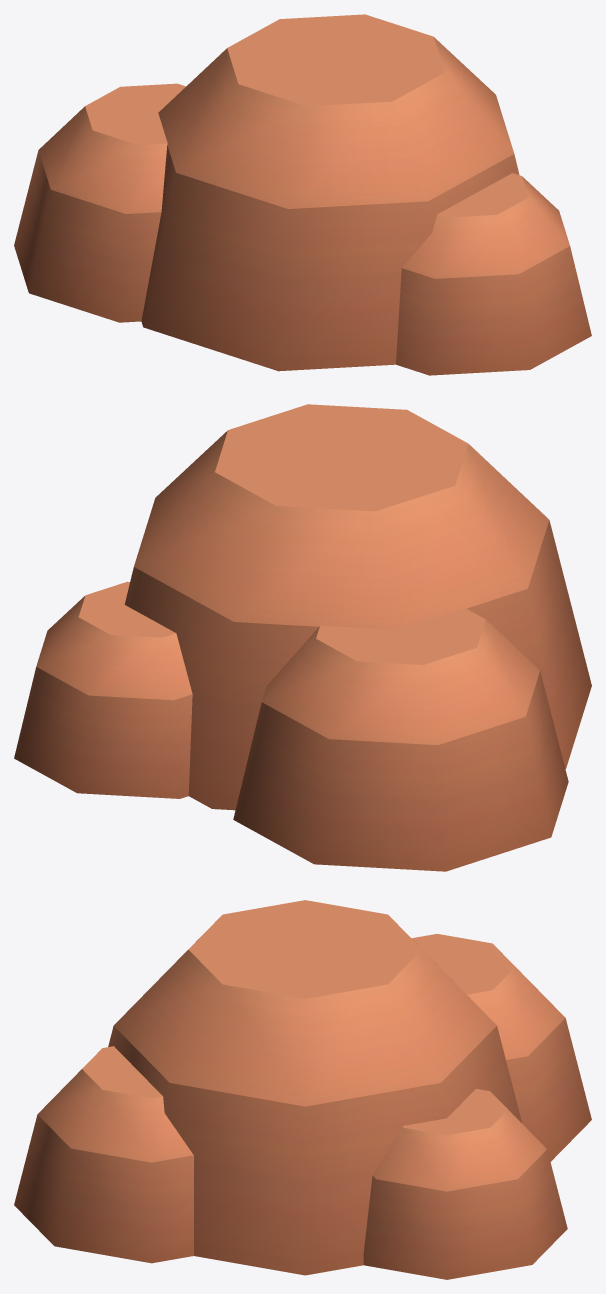
File: cargo-pile-a-transformed-transformed.glb
The picture shows the model from 3 angles, top to bottom: view 1: azimuth 30°, elevation 25°; view 2: azimuth 150°, elevation 25°; view 3: azimuth 270°, elevation 25°; orthographic projection. The views are drawn at different scales.
Visible parts, largest first — view 1: cargo-pile-a; view 2: cargo-pile-a; view 3: cargo-pile-a.
Boxes of the visible parts, left/top/right/bottom form: cargo-pile-a: left=14, top=14, right=591, bottom=375; cargo-pile-a: left=14, top=404, right=591, bottom=871; cargo-pile-a: left=14, top=900, right=591, bottom=1279.
Bounding box in the file's own units: 2.54 × 1.2 × 2.75.
1 material, 1 textured.
